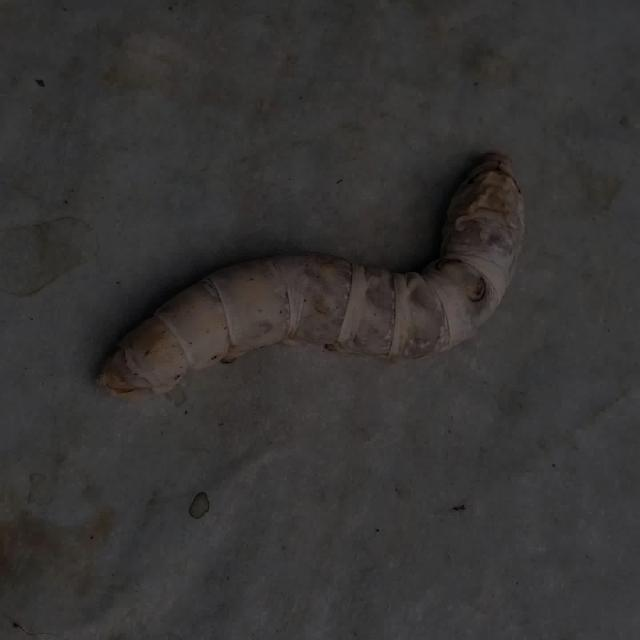Grasserie: (73, 120, 560, 435)
